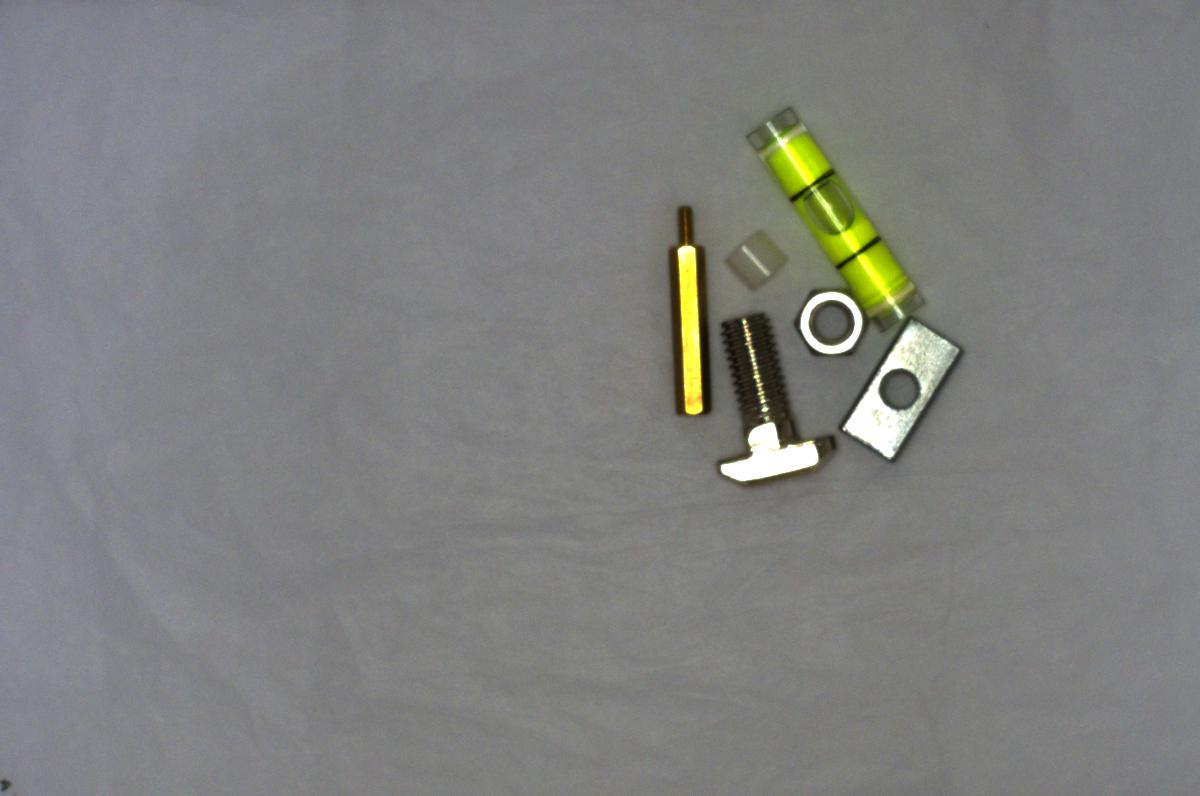Hexagon nut: (789, 280, 875, 363)
Hexagon pillar: (658, 196, 719, 424)
Horizontal bubble: (743, 94, 932, 331)
Plastic cushion pillar: (714, 223, 788, 298)
Rectangular nut: (833, 313, 961, 468)
T-shaped screw: (692, 305, 839, 491)
